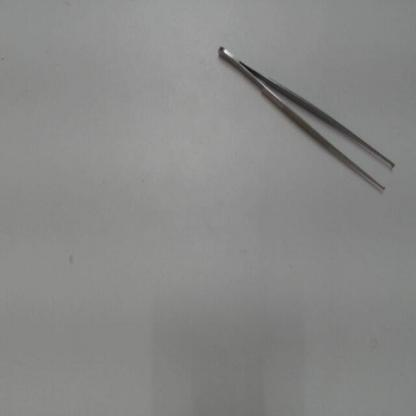Gillies Toothed Dissector: (212, 35, 406, 202)
